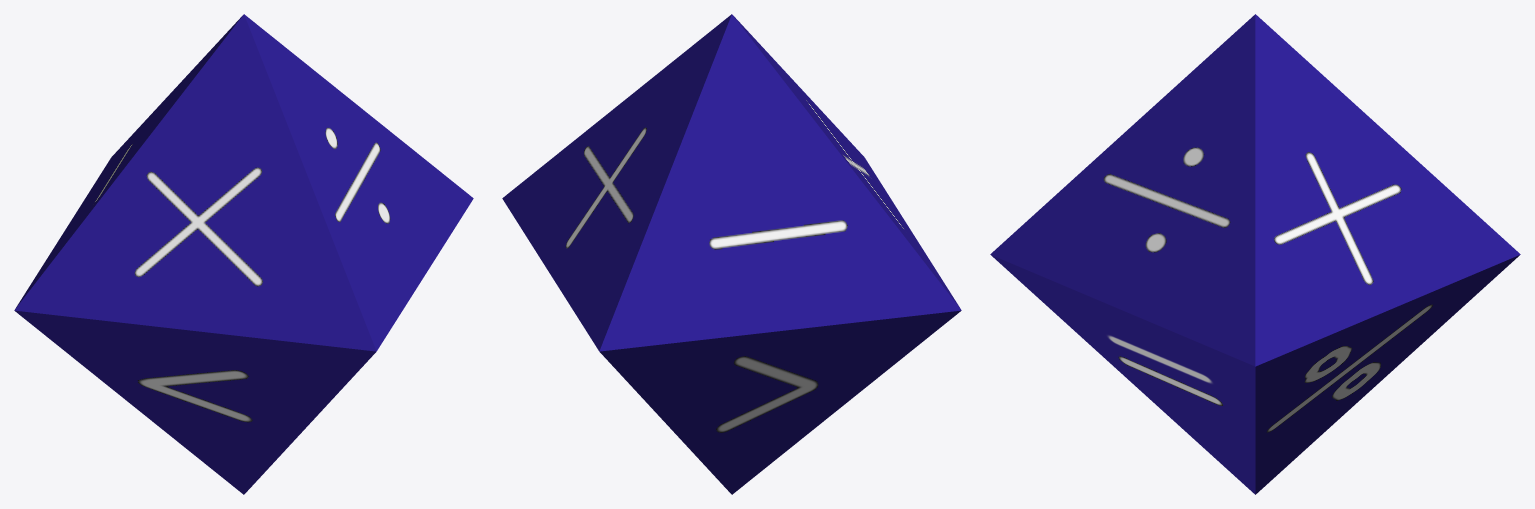
File: octahedron.dae
3 renders of one model, left to right at view 1: azimuth 30°, elevation 25°; view 2: azimuth 150°, elevation 25°; view 3: azimuth 270°, elevation 25°, orthographic.
Parts seen in each view (by area): view 1: Cube; view 2: Cube; view 3: Cube.
Part boxes in pixels (<box>): Cube: <box>14,14,473,494</box>; Cube: <box>502,14,961,494</box>; Cube: <box>990,14,1520,494</box>.
Bounding box in the file's own units: 2 × 2 × 2.
Materials: 1 (1 with a texture image).
